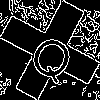Q: (25, 25, 82, 86)
